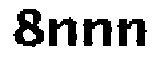8: (11, 4, 45, 49)
n: (115, 11, 151, 51), (47, 12, 81, 49), (82, 14, 115, 52)
